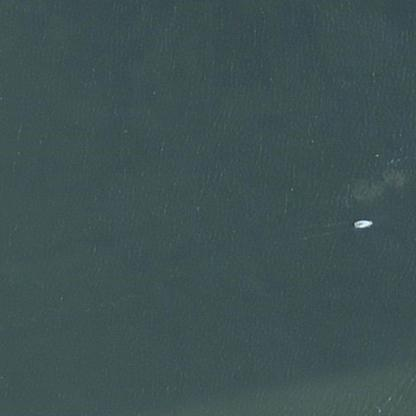ship: (350, 217, 374, 230)
